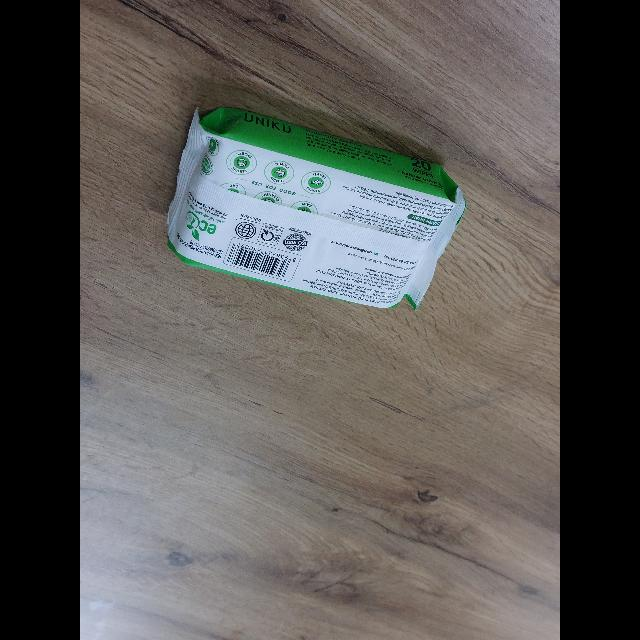khan_giay: (166, 103, 467, 310)
